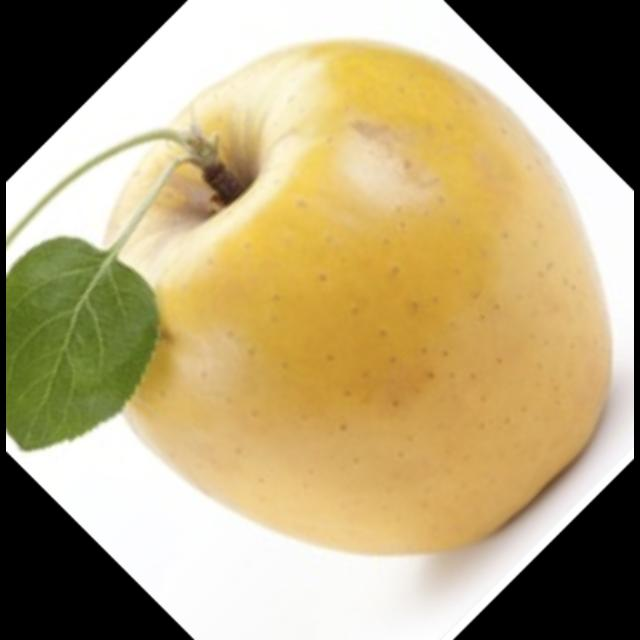Apel Segar: (100, 42, 616, 562)
